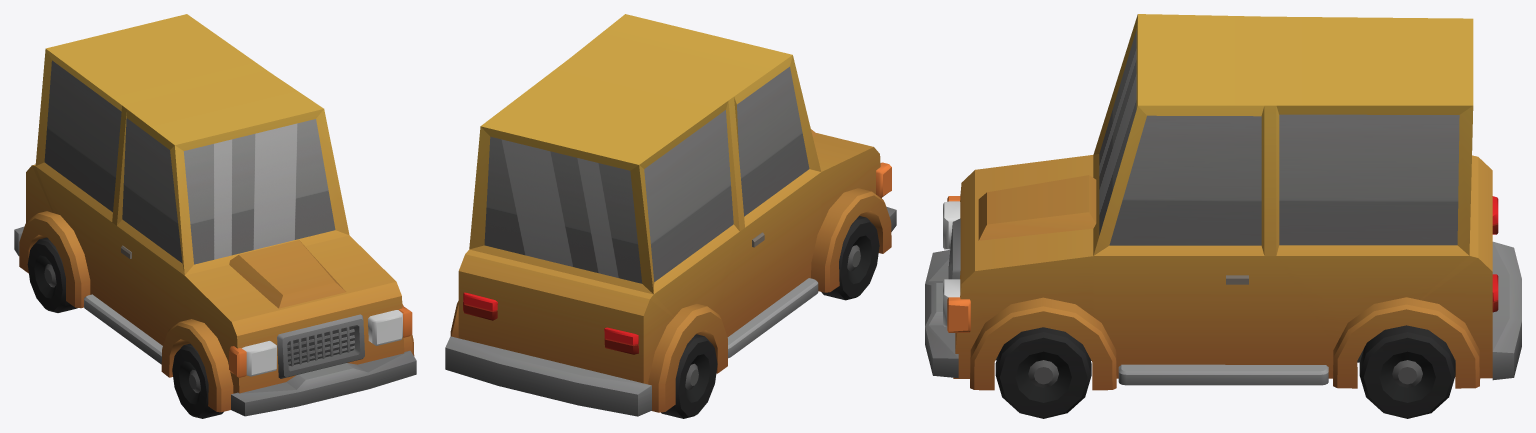
The model's file is Car_5_10.glb.
The picture shows the model from 3 angles, left to right: view 1: azimuth 30°, elevation 25°; view 2: azimuth 150°, elevation 25°; view 3: azimuth 270°, elevation 25°; orthographic projection. The views are drawn at different scales.
Visible parts, largest first — view 1: Car_5_10, W_br, W_fr; view 2: Car_5_10, W_br, W_fr; view 3: Car_5_10, W_bl, W_fl.
Boxes of the visible parts, <box> form: Car_5_10: <box>14,14,416,416</box>; W_br: <box>27,237,77,312</box>; W_fr: <box>172,343,223,418</box>; Car_5_10: <box>445,14,896,416</box>; W_br: <box>661,334,717,418</box>; W_fr: <box>821,216,879,300</box>; Car_5_10: <box>925,14,1521,390</box>; W_bl: <box>1359,325,1455,418</box>; W_fl: <box>995,327,1091,418</box>.
Size of the model in its own units: 1.13 by 1.3 by 2.33.
6 materials, 6 textured.
